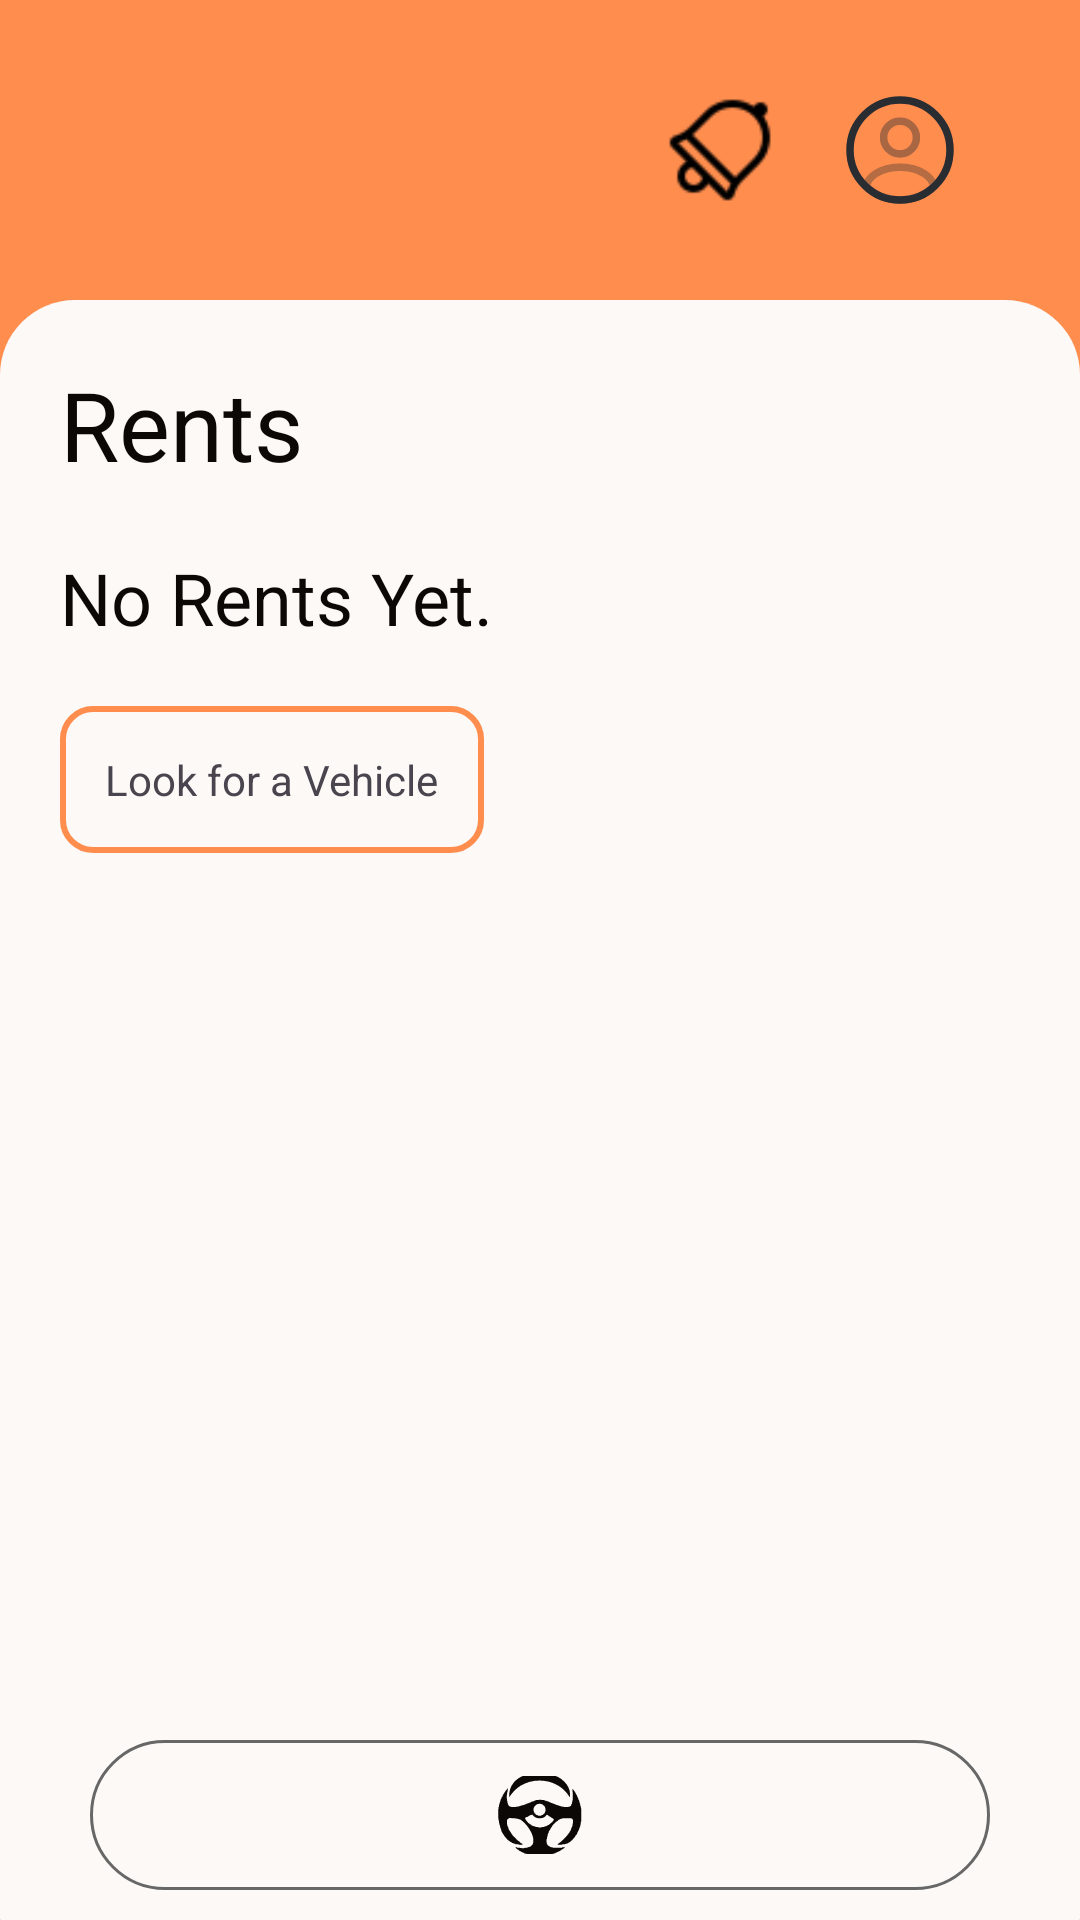

Screen size 1080px x 1920px. Icon name, then its box in pixels as (x1, y1, x2, y2):
bell: (669, 99, 771, 201)
profile circle: (846, 96, 954, 204)
